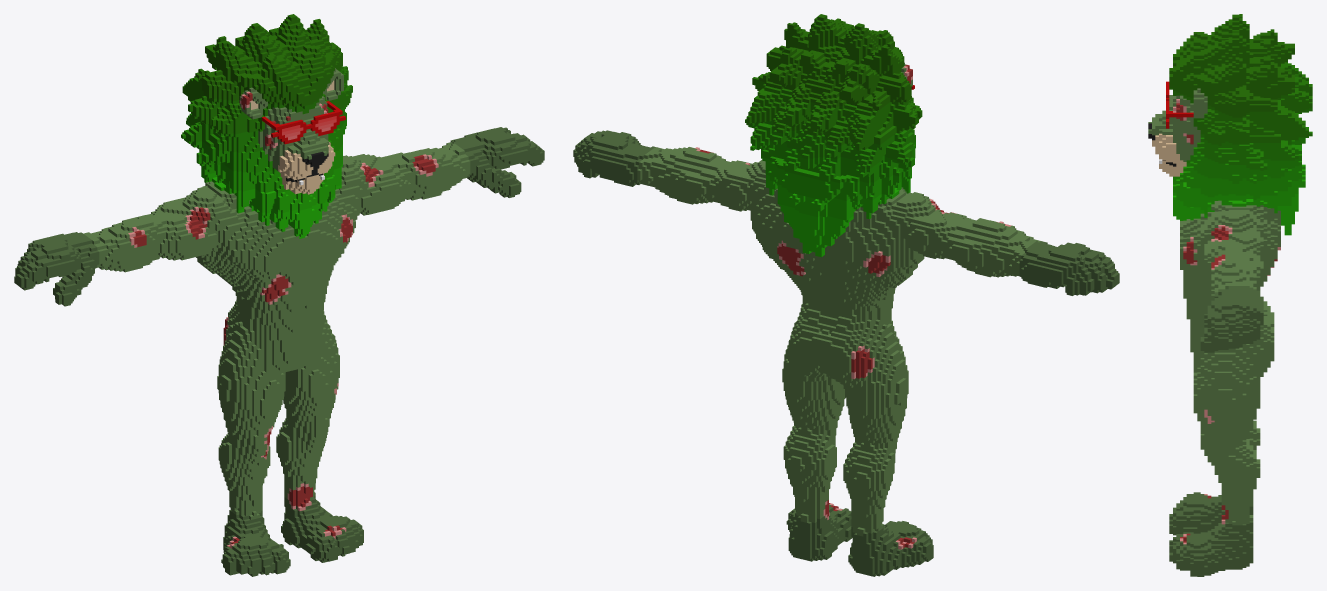
File: 865-pkl-6CJ9.glb
The picture shows the model from 3 angles, left to right: view 1: azimuth 30°, elevation 25°; view 2: azimuth 150°, elevation 25°; view 3: azimuth 270°, elevation 25°; orthographic projection. The views are drawn at different scales.
Parts seen in each view (by area): view 1: standard; view 2: standard; view 3: standard.
Boxes of the visible parts, x1,y1,x2,y2 form: standard: [14, 14, 544, 576]; standard: [573, 14, 1119, 576]; standard: [1148, 14, 1312, 576].
Size of the model in its own units: 17.2 by 16.5 by 4.7.
4 materials, 4 textured.
